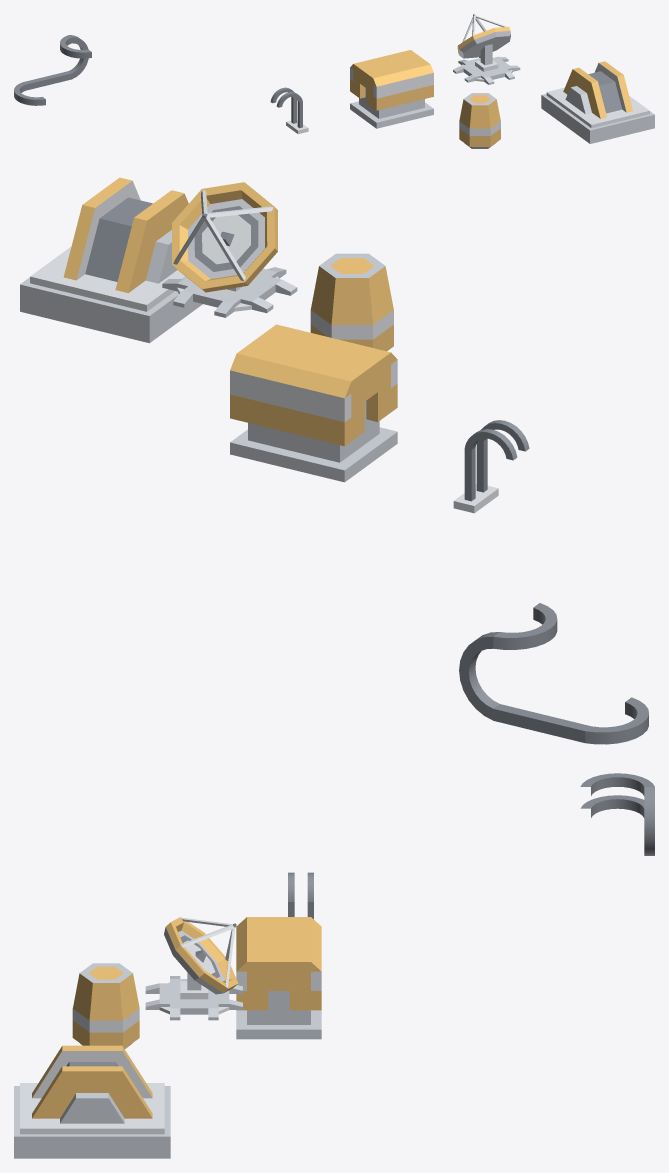
Rendered from solar_lvl3.glb.
3 views of the same model, one above another, from view 1: azimuth 30°, elevation 25°; view 2: azimuth 150°, elevation 25°; view 3: azimuth 270°, elevation 25° (orthographic). The views are drawn at different scales.
Parts seen in each view (by area): view 1: machine_generatorLarge.001, machine_generator.001, satelliteDish_detailed.001, machine_barrel.001, cable.002, cables.001; view 2: machine_generator.001, machine_generatorLarge.001, satelliteDish_detailed.001, machine_barrel.001, cable.002, cables.001; view 3: machine_generatorLarge.001, machine_generator.001, satelliteDish_detailed.001, machine_barrel.001, cable.002, cables.001.
Part boxes in pixels (x1,y1,x2,y2): machine_generatorLarge.001: [541, 61, 654, 143]; machine_generator.001: [350, 50, 433, 128]; satelliteDish_detailed.001: [453, 14, 520, 84]; machine_barrel.001: [459, 93, 500, 148]; cable.002: [14, 35, 91, 105]; cables.001: [270, 87, 308, 134]; machine_generator.001: [230, 324, 397, 482]; machine_generatorLarge.001: [20, 177, 202, 343]; satelliteDish_detailed.001: [162, 182, 297, 317]; machine_barrel.001: [310, 253, 393, 351]; cable.002: [459, 603, 648, 744]; cables.001: [453, 420, 529, 513]; machine_generatorLarge.001: [14, 1045, 170, 1158]; machine_generator.001: [236, 917, 321, 1039]; satelliteDish_detailed.001: [145, 917, 242, 1020]; machine_barrel.001: [72, 963, 139, 1048]; cable.002: [580, 773, 654, 855]; cables.001: [288, 872, 313, 918].
Size of the model in its own units: 4.51 by 0.8823 by 3.46.
